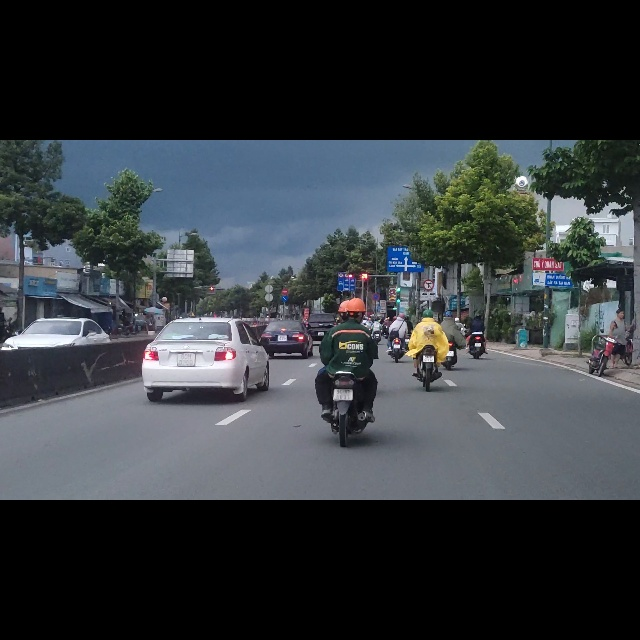bien_hieu_lenh: (338, 244, 356, 270), (423, 248, 434, 268), (282, 264, 288, 276), (281, 277, 288, 287)
